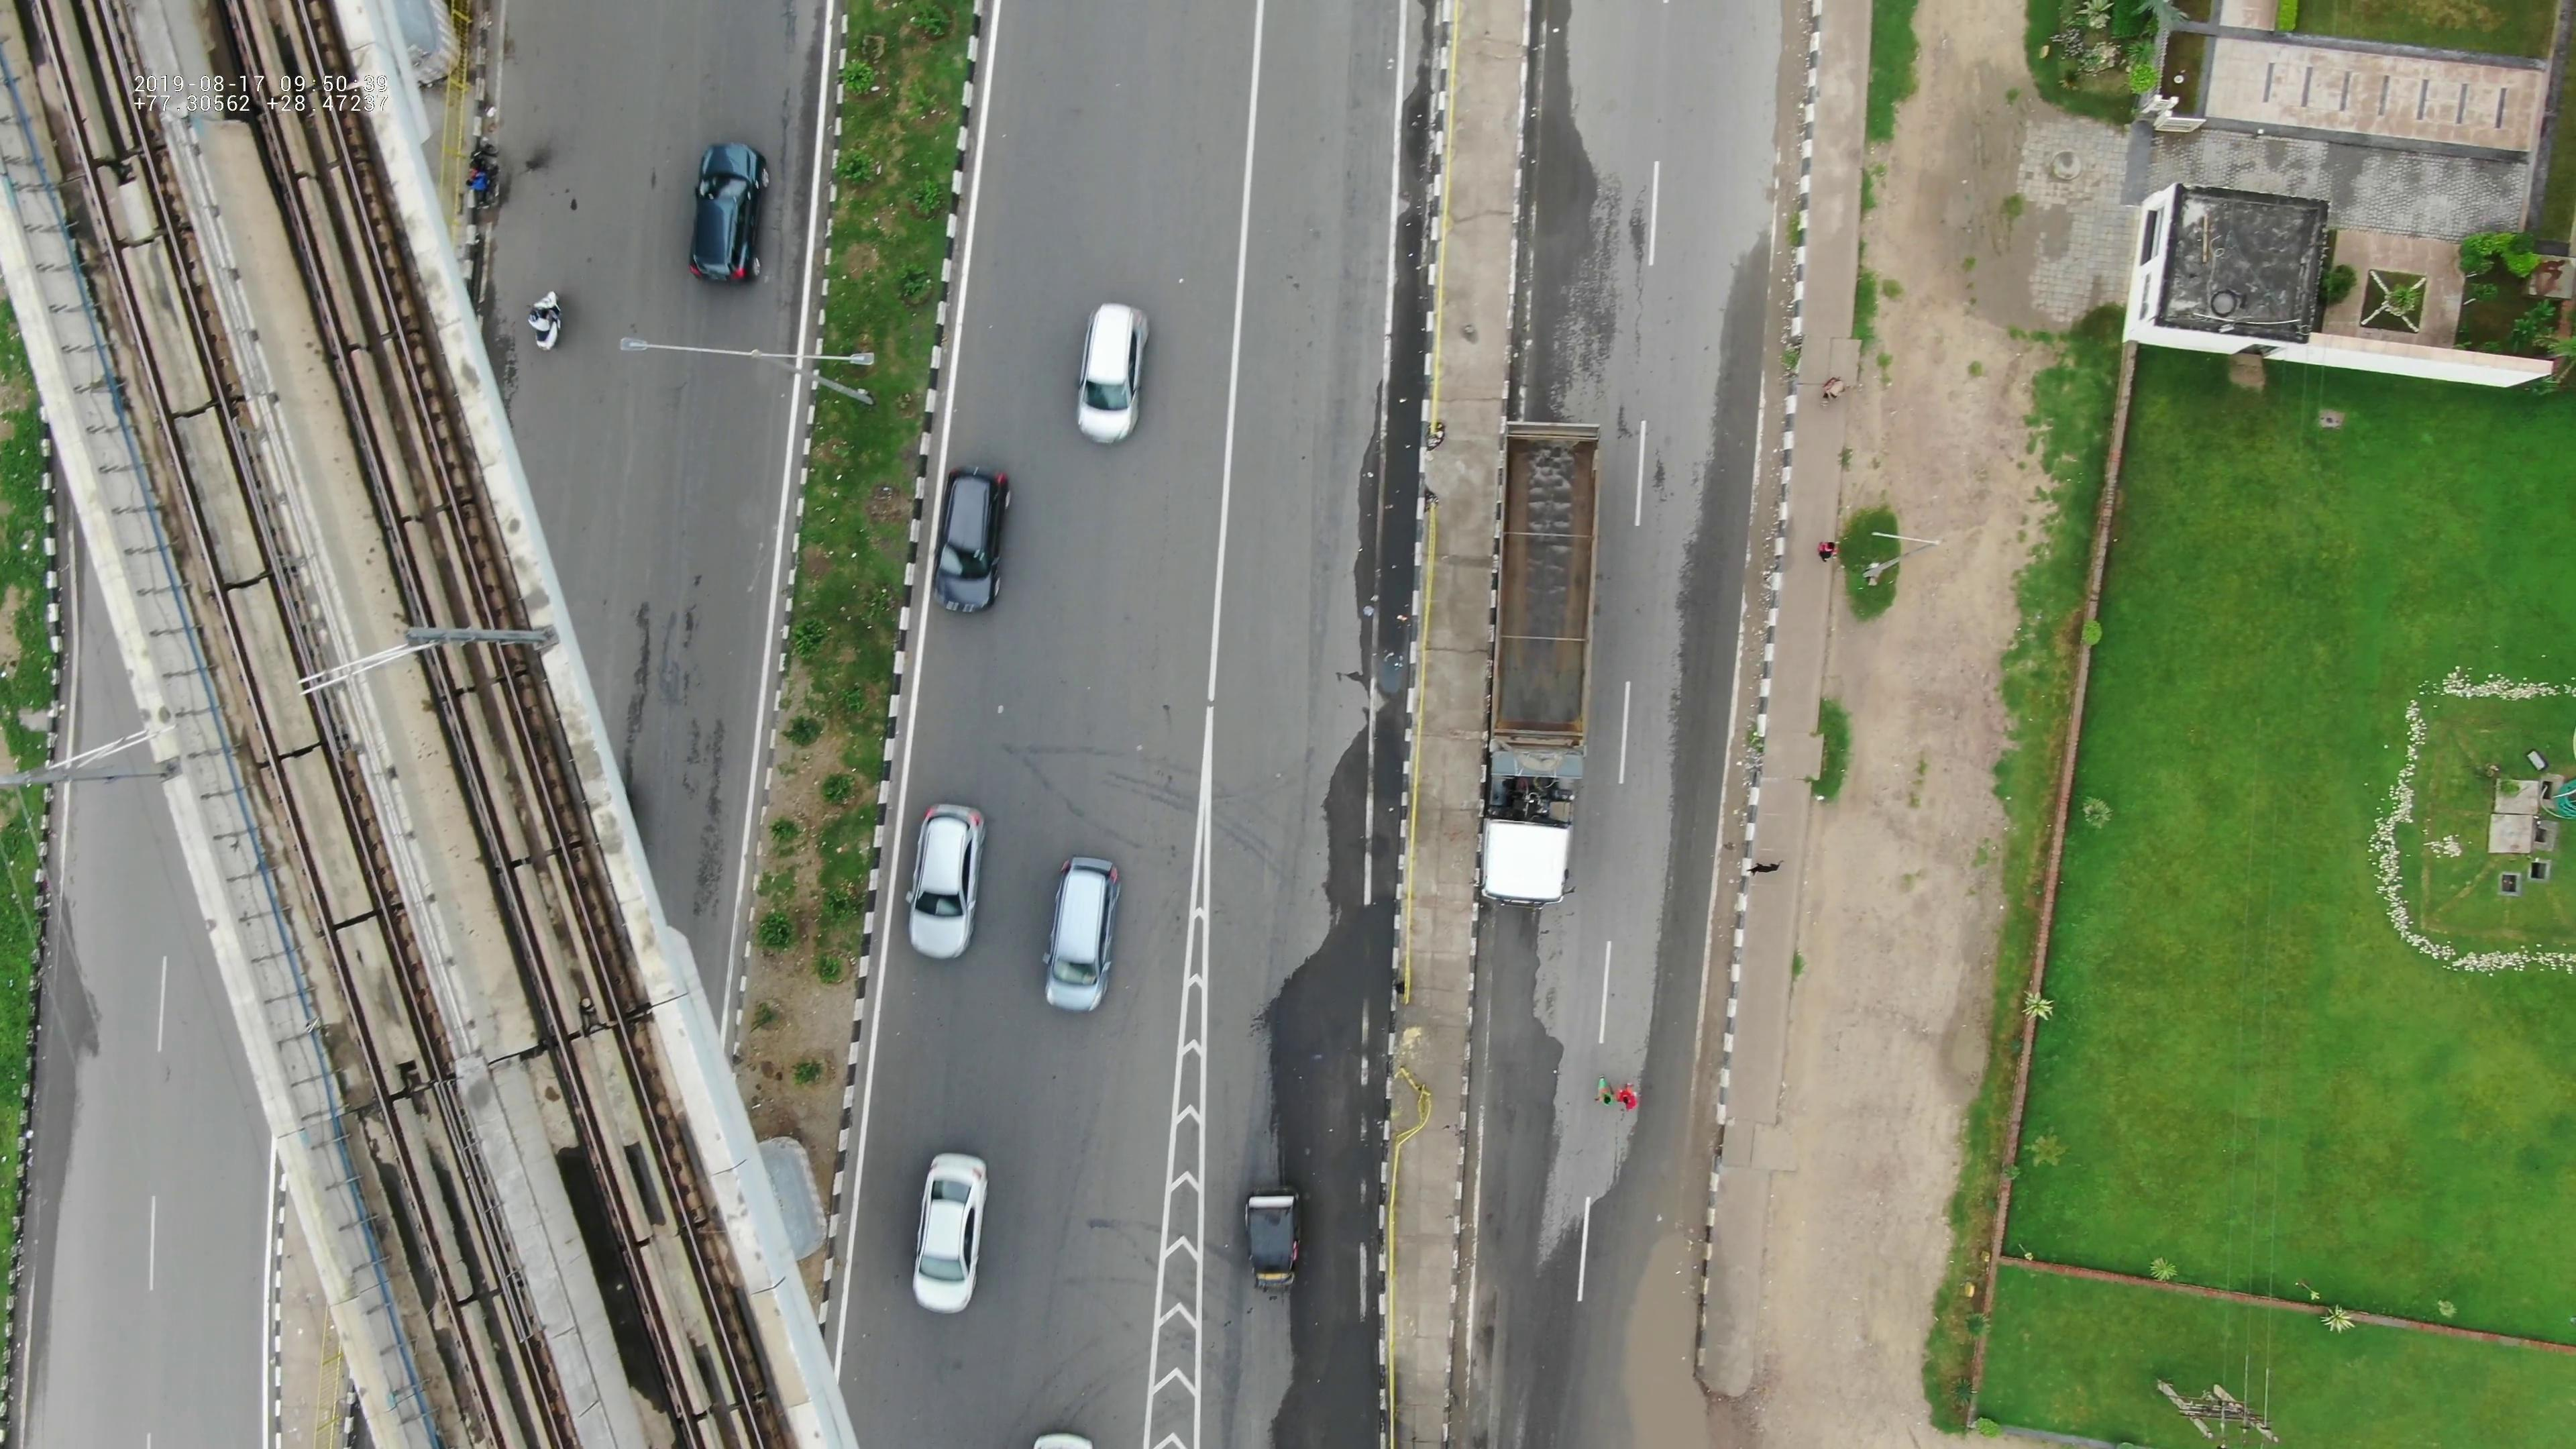Hair _cracks: (1619, 165, 1683, 363)
Ravelling: (589, 577, 736, 941), (763, 4, 833, 285)
